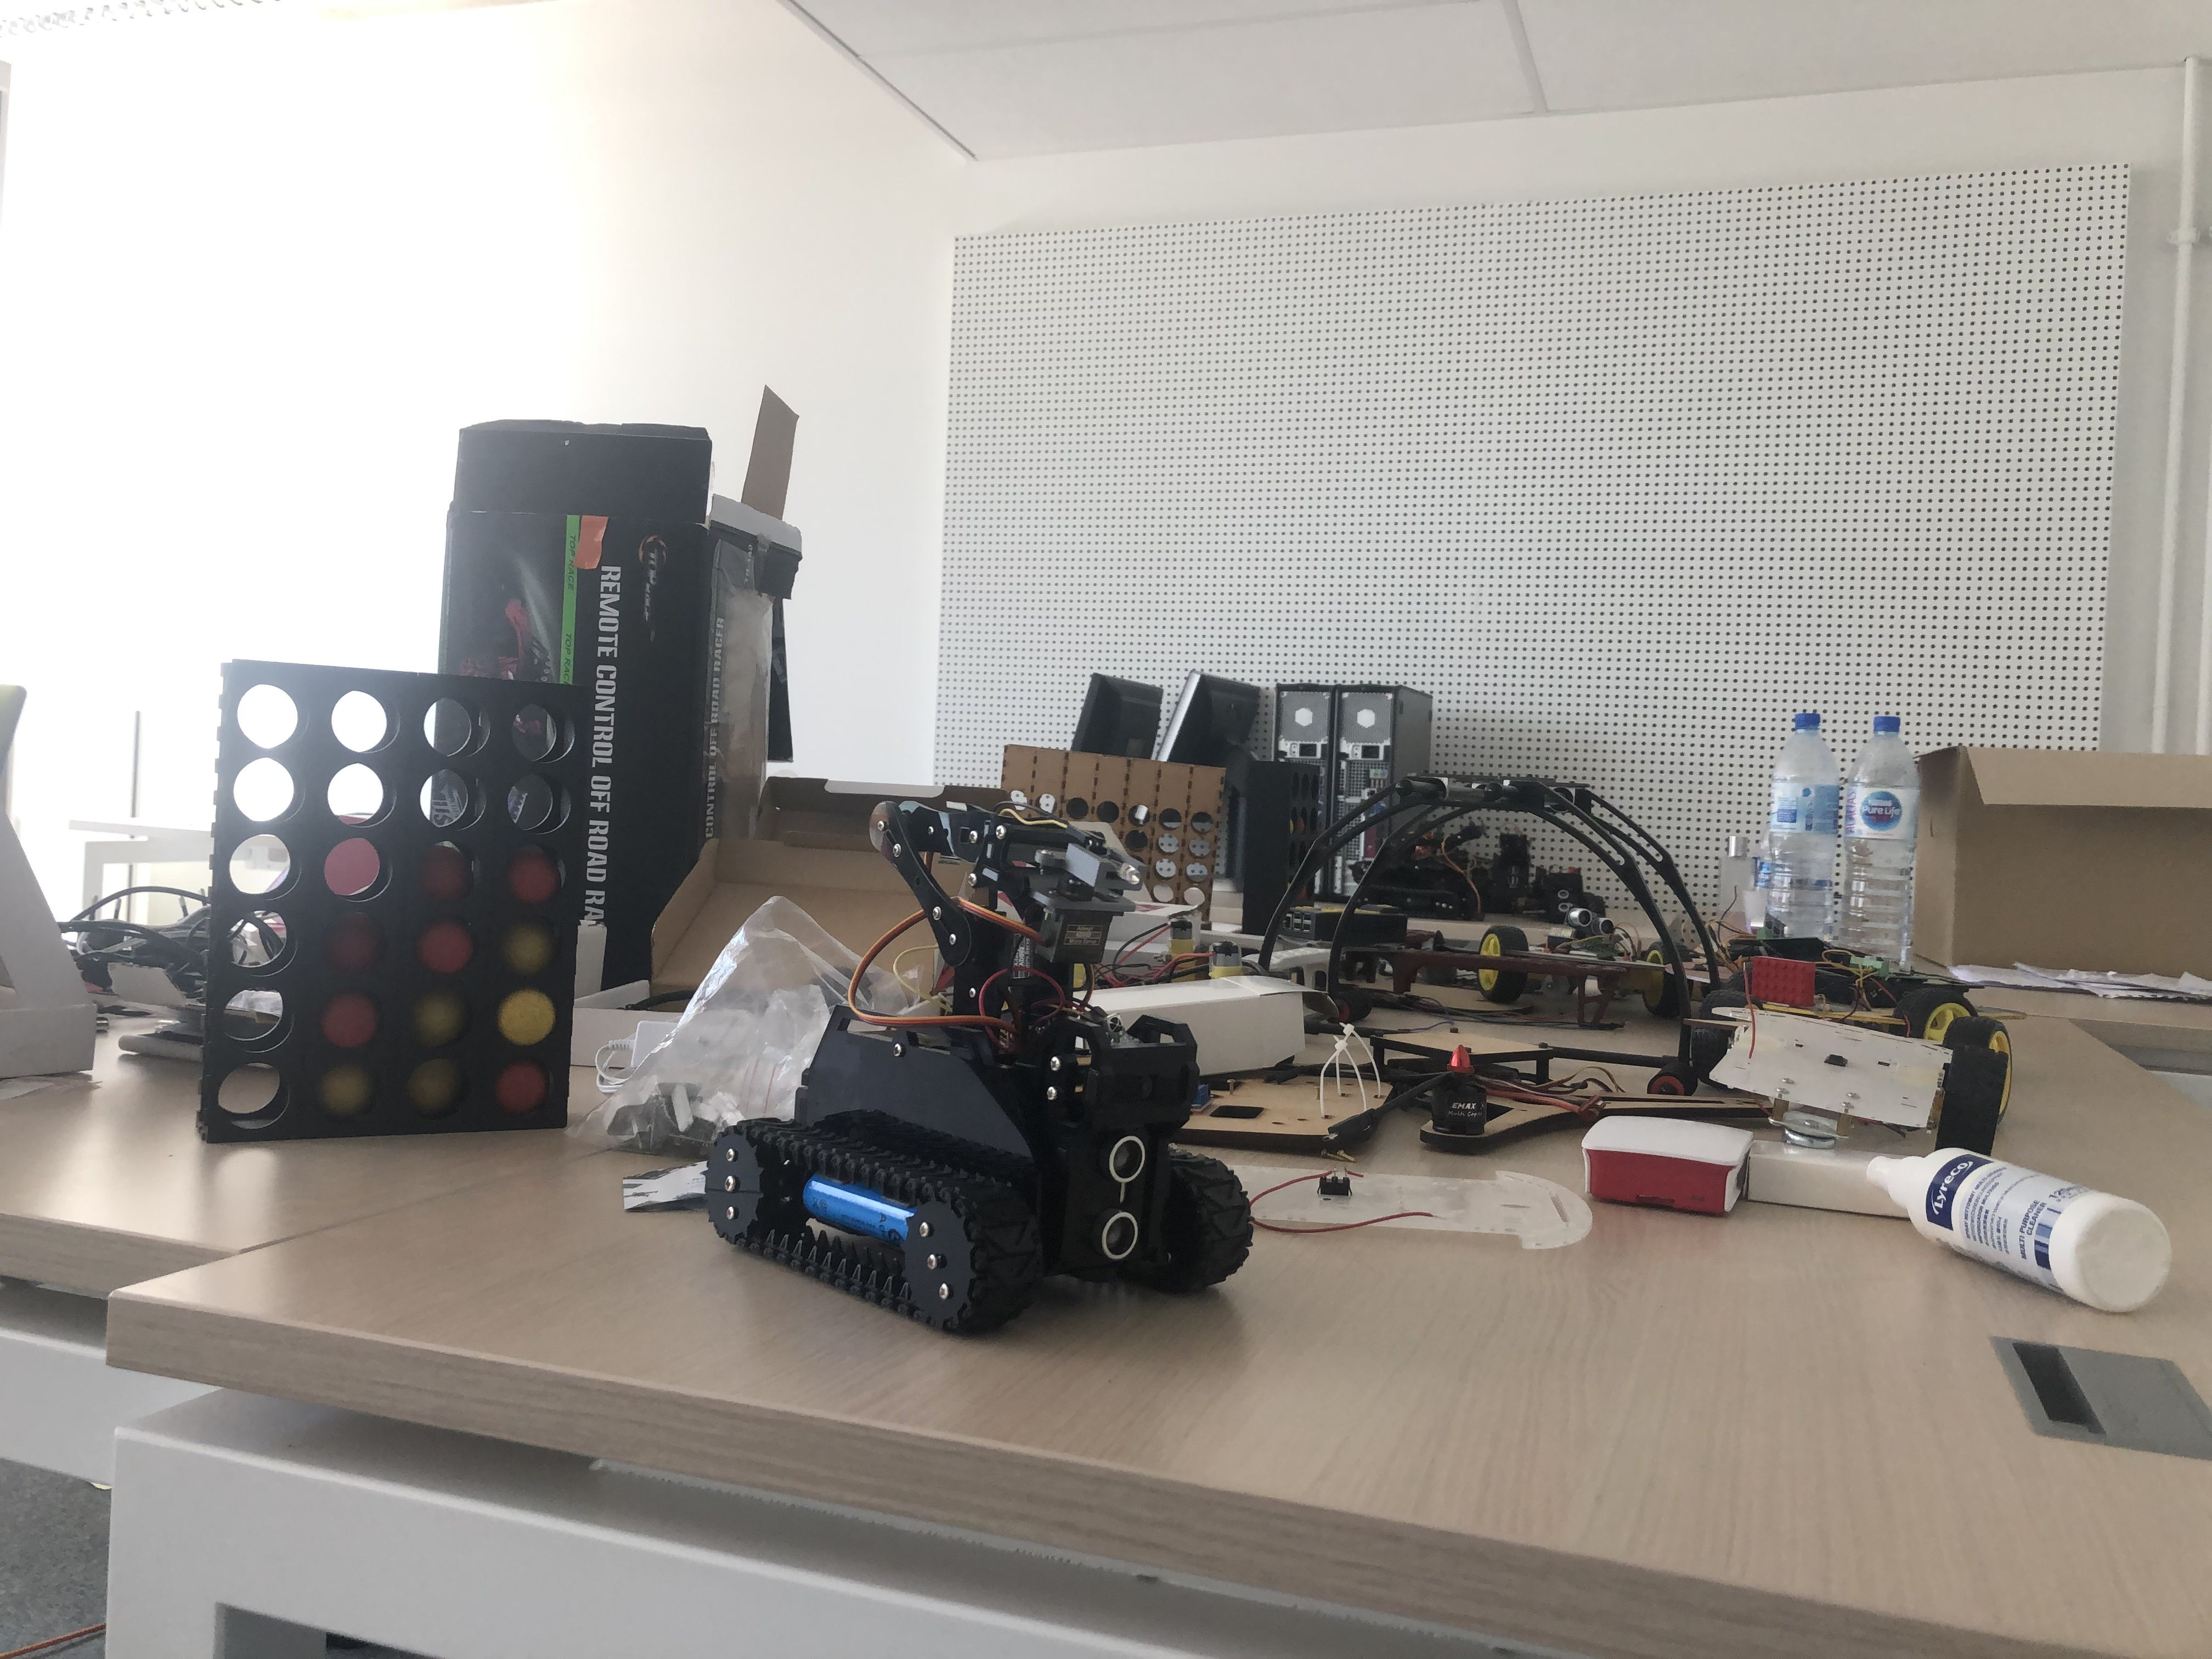rasptank: (702, 795, 1263, 1340)
